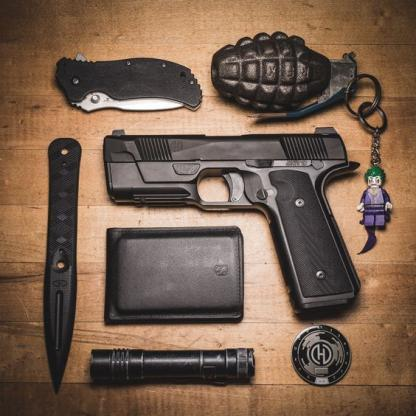Grenade: (212, 30, 383, 120)
Knife: (43, 137, 84, 397), (56, 55, 205, 115)
Pistol: (103, 129, 364, 315)
